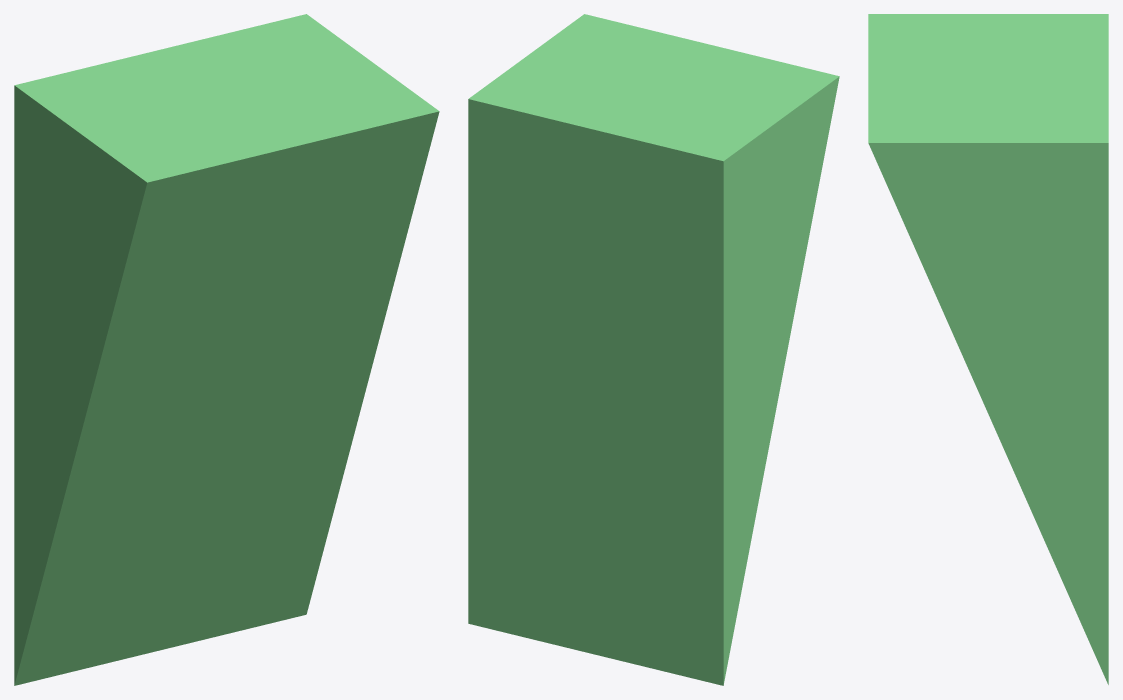
The model's file is stair.fbx.
The picture shows the model from 3 angles, left to right: view 1: azimuth 30°, elevation 25°; view 2: azimuth 150°, elevation 25°; view 3: azimuth 270°, elevation 25°; orthographic projection. The views are drawn at different scales.
Parts seen in each view (by area): view 1: stair; view 2: stair; view 3: stair.
Part boxes in pixels (<box>): stair: <box>14,14,439,685</box>; stair: <box>468,14,839,685</box>; stair: <box>868,14,1108,684</box>.
Bounding box in the file's own units: 3.39 × 6.65 × 2.67.
